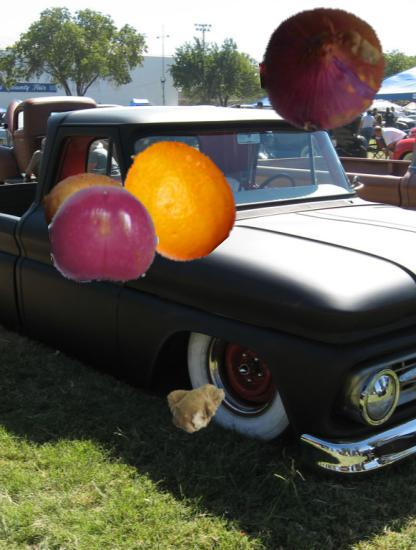Beetroot: (306, 14, 360, 68)
Cherry: (49, 180, 159, 290)
Ginger: (165, 373, 226, 434)
Lemon: (114, 137, 240, 263)
Onion: (260, 6, 387, 133)
Peach: (40, 170, 142, 272)
